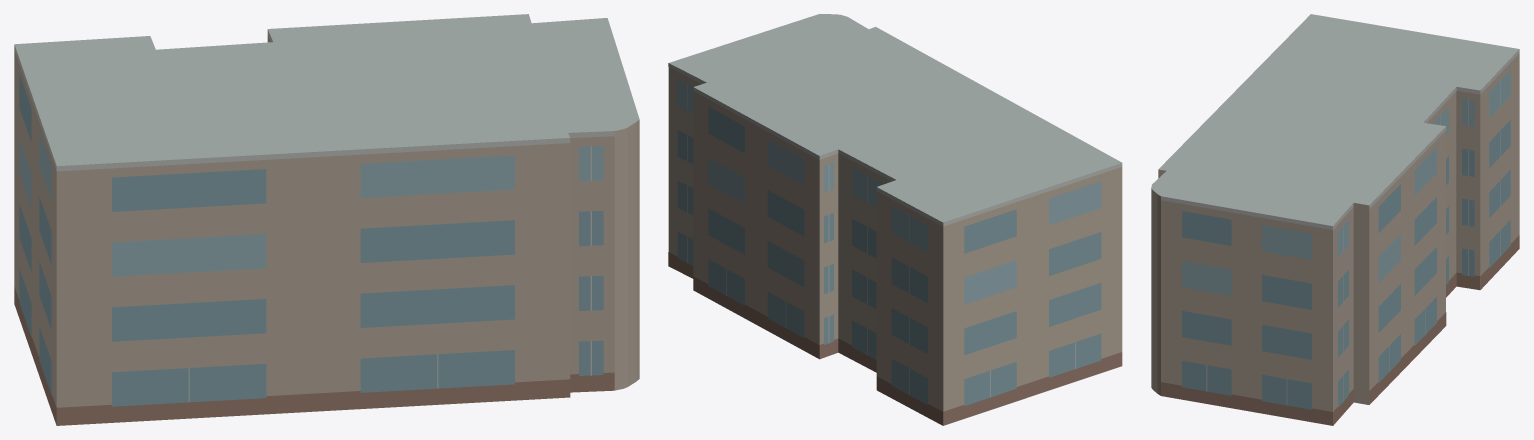
File: survey-upis-32839676.glb
3 views of the same model, side by side, from view 1: azimuth 30°, elevation 25°; view 2: azimuth 150°, elevation 25°; view 3: azimuth 270°, elevation 25° (orthographic). The views are drawn at different scales.
Parts seen in each view (by area): view 1: survey-upis-32839676.tmp; view 2: survey-upis-32839676.tmp; view 3: survey-upis-32839676.tmp.
Part boxes in pixels (x1,y1,x2,y2): survey-upis-32839676.tmp: (14, 14, 639, 425); survey-upis-32839676.tmp: (668, 14, 1122, 425); survey-upis-32839676.tmp: (1151, 14, 1519, 425).
Bounding box in the file's own units: 27.81 × 12.2 × 20.39.
